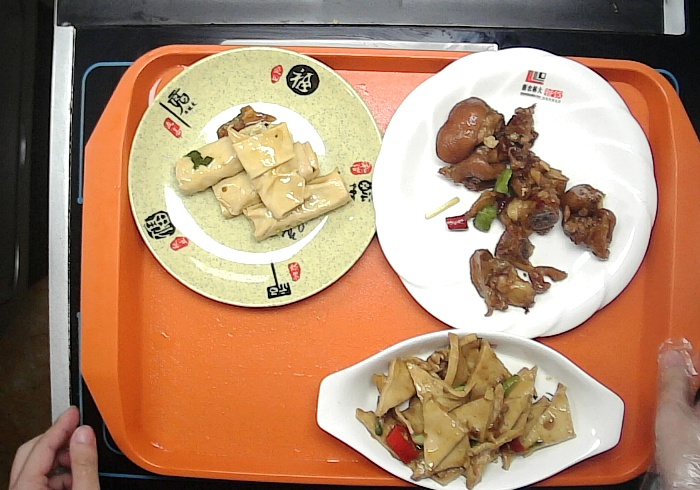NLDX-Bai_Zhe_Yuan_Pan: (355, 44, 662, 343)
NLDX-Fu_Zi_Yuan_Pan: (119, 38, 389, 316)
NLDX-Yu_Pan: (308, 326, 629, 490)
